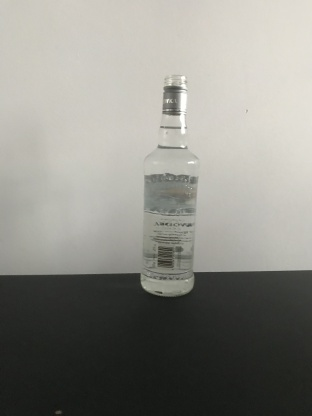nakretka: (160, 72, 189, 116)
